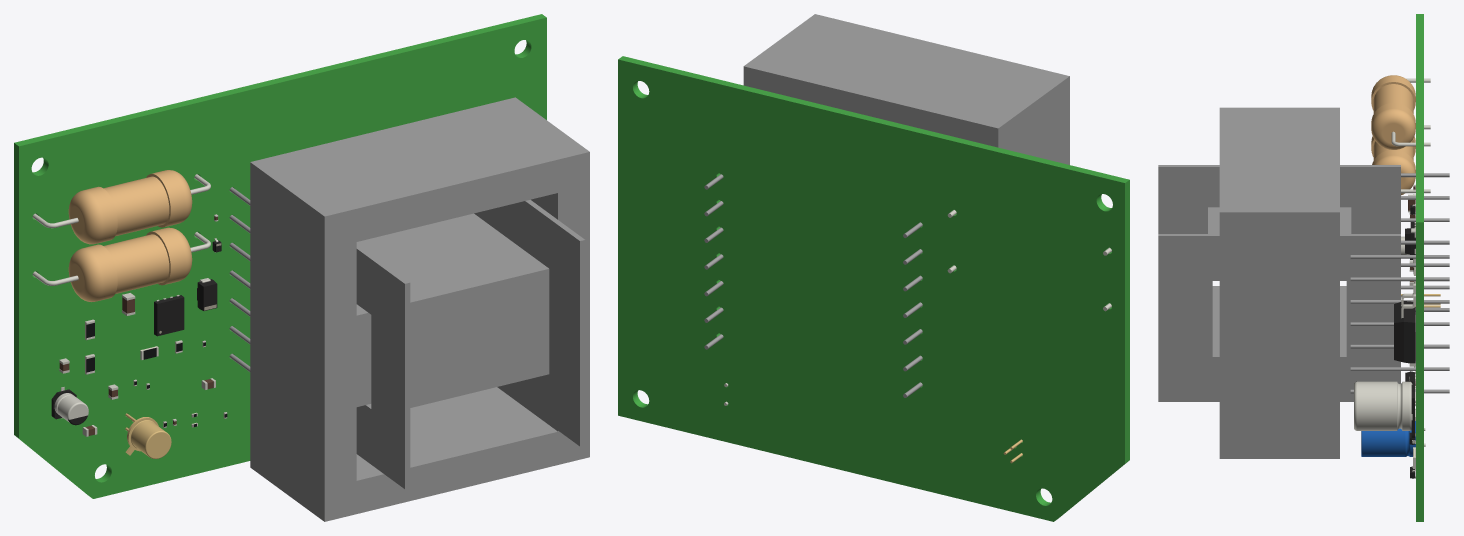
Rendered from pcb-design v1.fbx.
3 renders of one model, left to right at view 1: azimuth 30°, elevation 25°; view 2: azimuth 150°, elevation 25°; view 3: azimuth 270°, elevation 25°, orthographic. The views are drawn at different scales.
Parts seen in each view (by area): view 1: Body1 (×7), Body16; view 2: Body1, Body16; view 3: Body16, Body1 (×7), Body9, Body8, Body12, Body11.
Boxes of the visible parts, <box> form: Body1 (×7): <box>14,14,585,498</box>; Body16: <box>250,97,589,521</box>; Body1: <box>618,56,1129,521</box>; Body16: <box>743,14,1069,164</box>; Body16: <box>1219,107,1339,458</box>; Body1 (×7): <box>1158,14,1430,521</box>; Body9: <box>1350,277,1449,281</box>; Body8: <box>1350,255,1449,258</box>; Body12: <box>1350,367,1449,370</box>; Body11: <box>1350,344,1449,348</box>.
Size of the model in its own units: 99.5 by 66.8 by 58.83.
